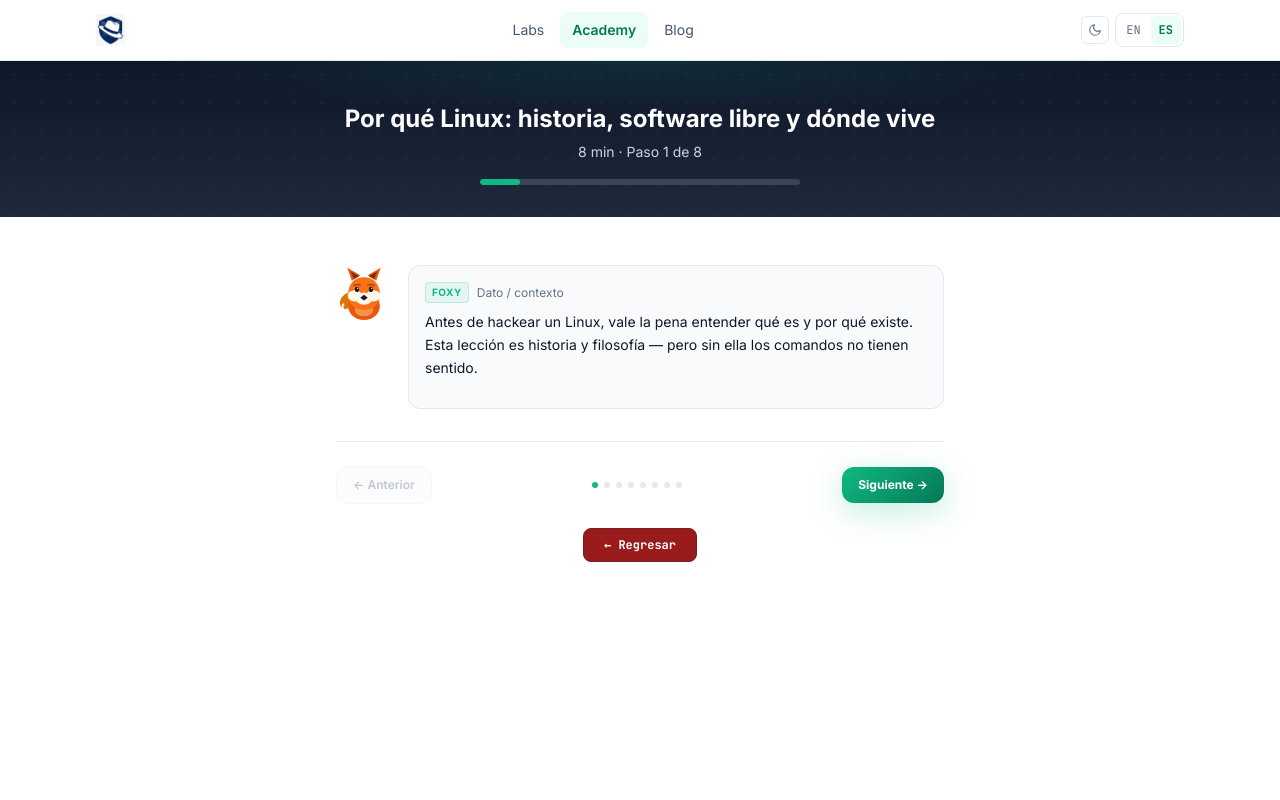
Test: Academy › LessonViewer › avanza con Siguiente desde el narrator al content
The image size is (1280, 800).
Click the button "Siguiente →": (893, 485) [842,467,944,503]
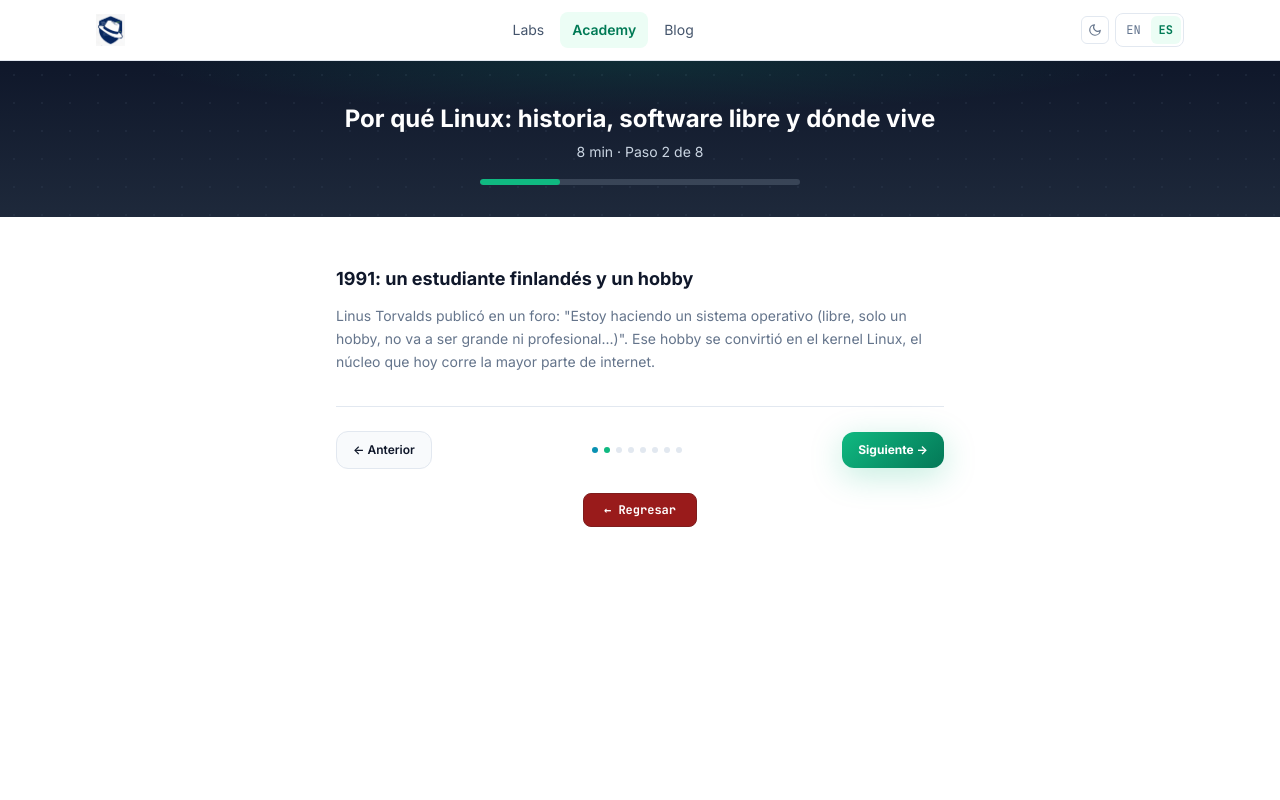
Result: the heading "1991: un estudiante finlandés y un hobby" is shown at [336,268,693,289]
